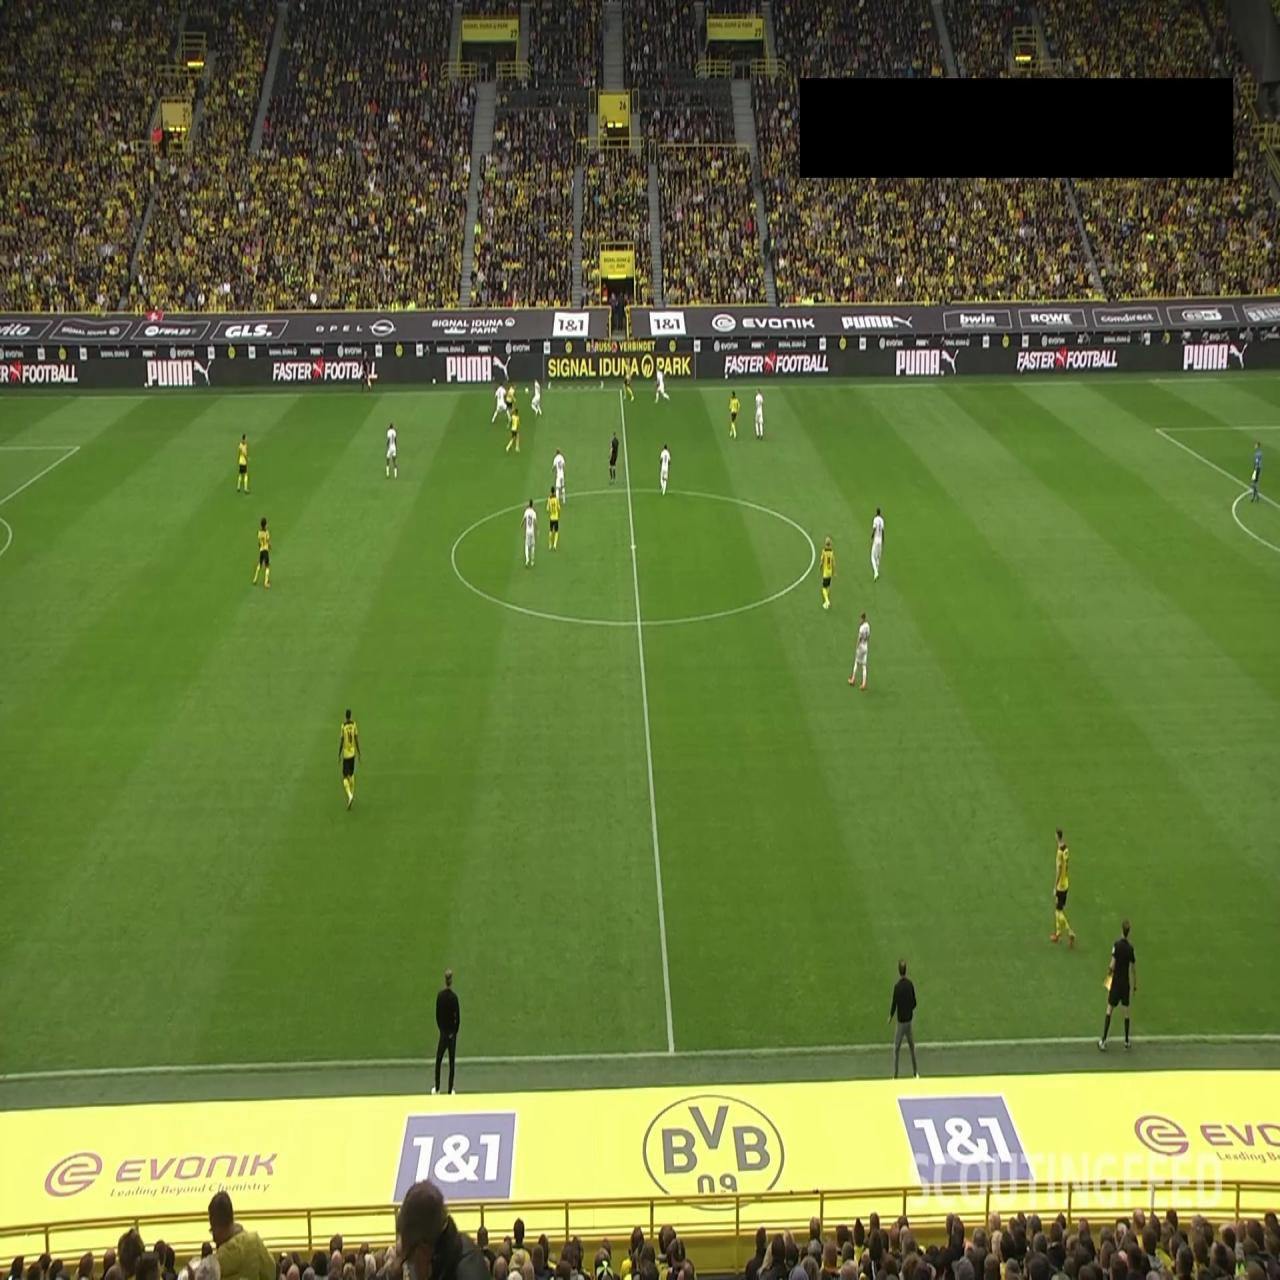Ball: (524, 386, 530, 396)
GoalKeeper: (1249, 439, 1263, 504)
Player: (1049, 826, 1076, 950), (337, 709, 362, 810), (848, 610, 871, 690), (252, 516, 272, 586), (520, 498, 538, 569), (820, 536, 836, 612), (870, 506, 885, 582), (545, 486, 561, 551), (550, 446, 566, 506), (492, 382, 512, 426), (505, 403, 521, 454), (237, 433, 250, 493), (658, 441, 672, 496), (386, 421, 398, 479), (654, 363, 670, 403), (622, 357, 636, 402), (504, 381, 518, 425), (754, 388, 765, 440), (729, 390, 740, 438), (530, 379, 542, 416)
Referee: (1098, 915, 1138, 1054), (608, 432, 620, 484), (360, 346, 372, 392)
